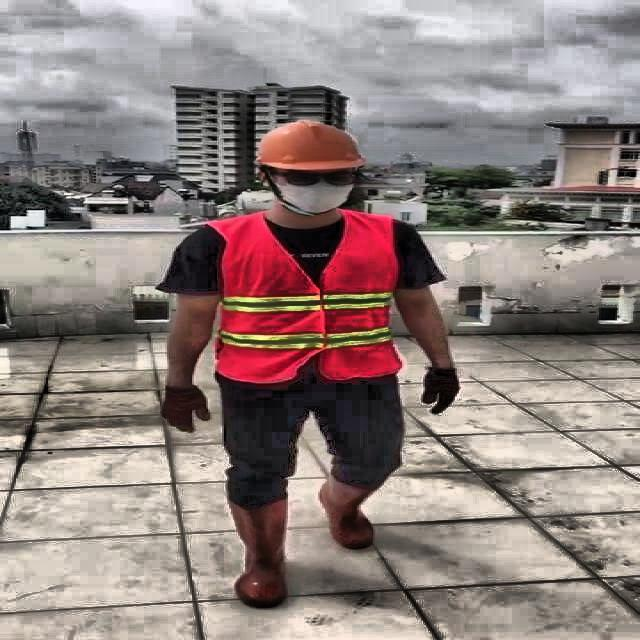safety_helmet: (253, 118, 367, 168)
safety_jacket: (214, 212, 404, 382)
